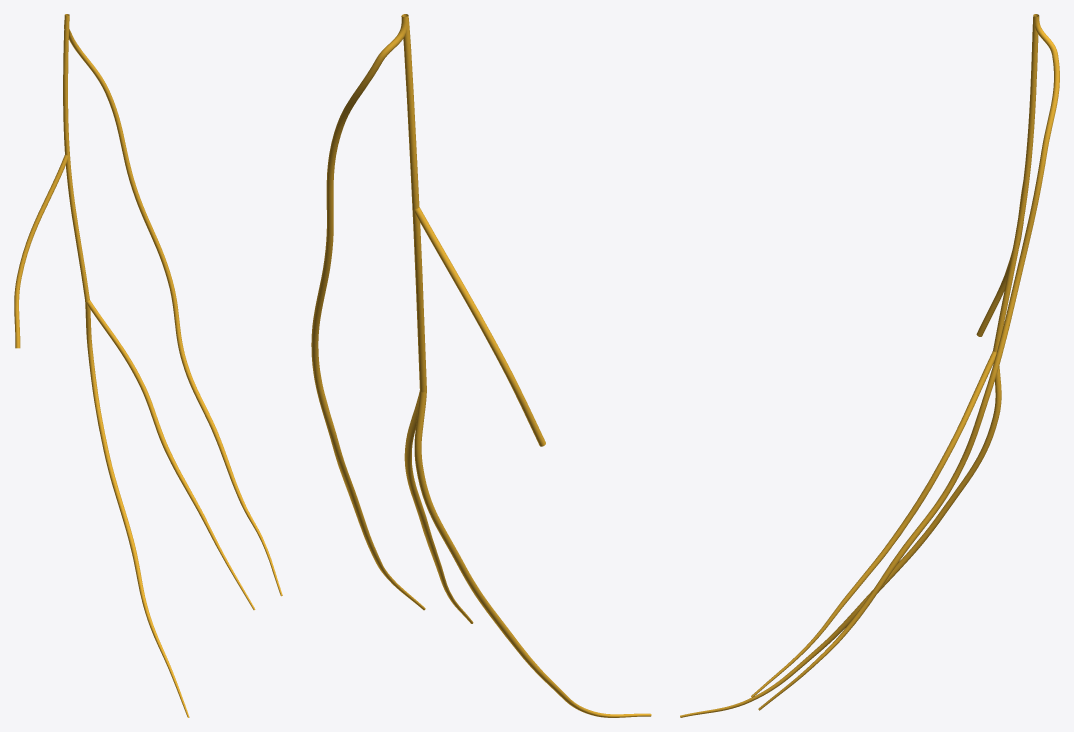
The model's file is nervoso-common-palmar-digital-branches-of-ulnar-nerve-r.glb.
3 renders of one model, left to right at view 1: azimuth 30°, elevation 25°; view 2: azimuth 150°, elevation 25°; view 3: azimuth 270°, elevation 25°, orthographic. The views are drawn at different scales.
Visible parts, largest first — view 1: Proper palmar digital branches of ulnar nerve.r, Common palmar digital branches of ulnar nerve.r; view 2: Proper palmar digital branches of ulnar nerve.r, Common palmar digital branches of ulnar nerve.r; view 3: Proper palmar digital branches of ulnar nerve.r, Common palmar digital branches of ulnar nerve.r.
Boxes of the visible parts, x1,y1,x2,y2 form: Proper palmar digital branches of ulnar nerve.r: (64, 14, 282, 717); Common palmar digital branches of ulnar nerve.r: (14, 14, 89, 348); Proper palmar digital branches of ulnar nerve.r: (311, 14, 651, 717); Common palmar digital branches of ulnar nerve.r: (401, 14, 545, 446); Proper palmar digital branches of ulnar nerve.r: (680, 14, 1059, 717); Common palmar digital branches of ulnar nerve.r: (976, 14, 1038, 352).
Size of the model in its own units: 0.0416 by 0.1306 by 0.0627.
